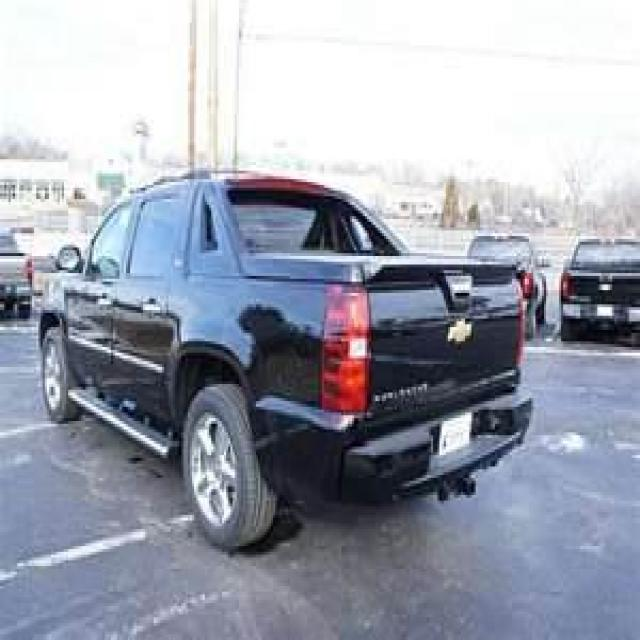car: (34, 179, 529, 543)
